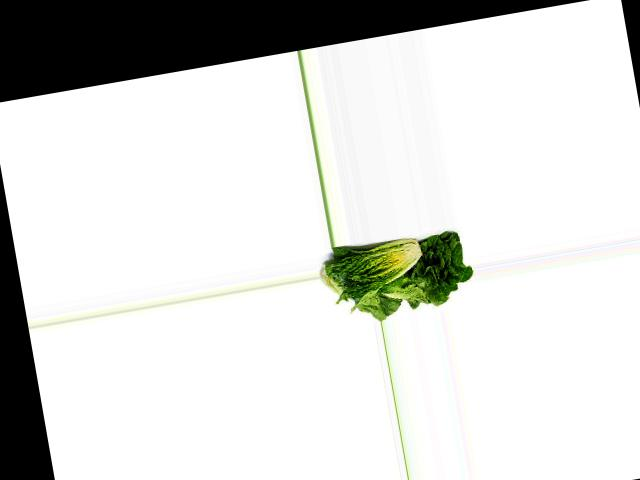lettuce: (375, 224, 474, 313)
